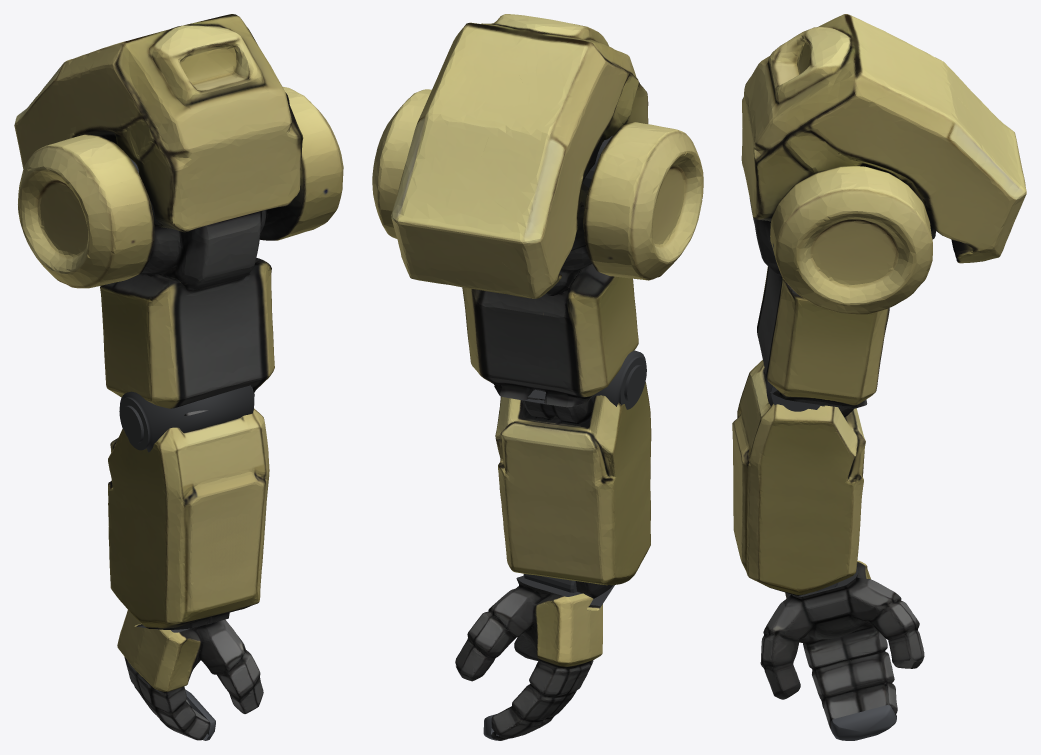
The model's file is medium_mech_arm_l.glb.
3 views of the same model, side by side, from view 1: azimuth 30°, elevation 25°; view 2: azimuth 150°, elevation 25°; view 3: azimuth 270°, elevation 25° (orthographic). The views are drawn at different scales.
Parts seen in each view (by area): view 1: md_upper_arm_L, md_forearm_L, md_hand_L, md_upper_arm_L_frame, md_elbow_cyl_L, md_hand_L_frame, md_forearm_L_frame; view 2: md_upper_arm_L, md_forearm_L, md_hand_L, md_upper_arm_L_frame, md_hand_L_frame, md_elbow_cyl_L, md_forearm_L_frame; view 3: md_upper_arm_L, md_forearm_L, md_hand_L, md_hand_L_frame, md_upper_arm_L_frame, md_elbow_cyl_L.
Boxes of the visible parts, bbox=[...] form: md_upper_arm_L: bbox=[14, 14, 343, 415]; md_forearm_L: bbox=[108, 408, 269, 629]; md_hand_L: bbox=[117, 610, 263, 740]; md_upper_arm_L_frame: bbox=[75, 129, 306, 415]; md_elbow_cyl_L: bbox=[119, 385, 254, 452]; md_hand_L_frame: bbox=[126, 623, 263, 740]; md_forearm_L_frame: bbox=[158, 417, 255, 629]; md_upper_arm_L: bbox=[372, 14, 703, 404]; md_forearm_L: bbox=[495, 382, 651, 610]; md_hand_L: bbox=[455, 575, 602, 740]; md_upper_arm_L_frame: bbox=[475, 124, 613, 407]; md_hand_L_frame: bbox=[456, 579, 593, 740]; md_elbow_cyl_L: bbox=[591, 350, 646, 409]; md_forearm_L_frame: bbox=[502, 398, 612, 598]; md_upper_arm_L: bbox=[741, 14, 1026, 408]; md_forearm_L: bbox=[732, 360, 865, 595]; md_hand_L: bbox=[760, 560, 924, 740]; md_hand_L_frame: bbox=[763, 565, 921, 719]; md_upper_arm_L_frame: bbox=[755, 160, 973, 408]; md_elbow_cyl_L: bbox=[765, 372, 824, 411].
Size of the model in its own units: 2.79 by 6.9 by 2.67.
6 materials, 4 textured.
